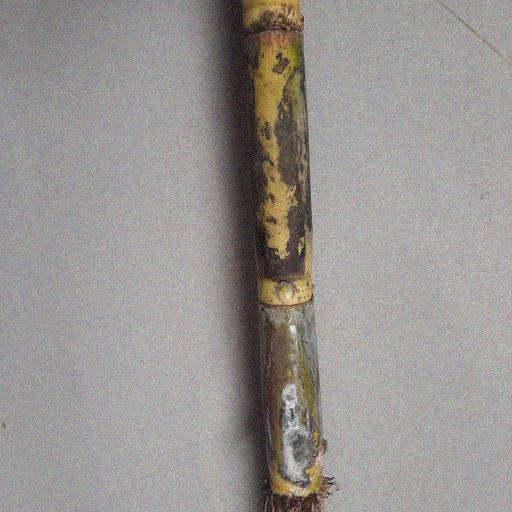Bud: (274, 280, 298, 307)
